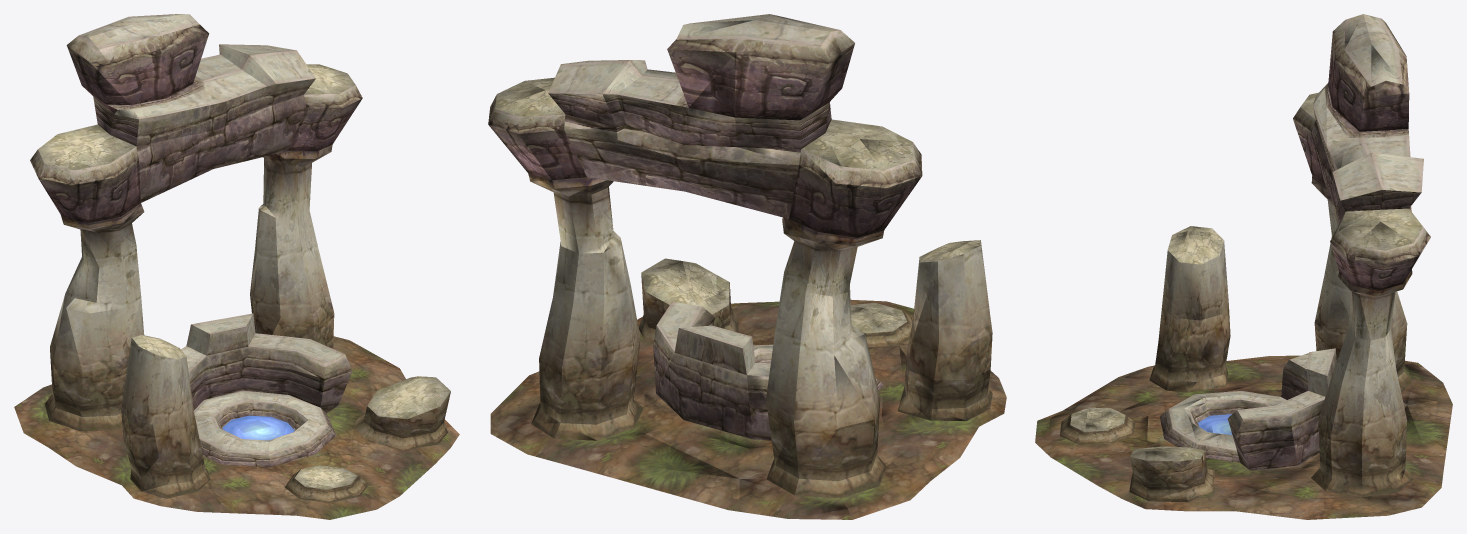
File: SpiritVent.obj
3 renders of one model, left to right at view 1: azimuth 30°, elevation 25°; view 2: azimuth 150°, elevation 25°; view 3: azimuth 270°, elevation 25°, orthographic. The views are drawn at different scales.
Visible parts, largest first — view 1: mesh_99, mesh_100, mesh_103, mesh_102, mesh_101, mesh_98, mesh_104; view 2: mesh_99, mesh_103, mesh_100, mesh_102, mesh_98, mesh_101; view 3: mesh_99, mesh_103, mesh_101, mesh_100, mesh_102, mesh_98, mesh_104.
Boxes of the visible parts, x1,y1,x2,y2 form: mesh_99: (44, 144, 450, 502); mesh_100: (93, 46, 352, 467); mesh_103: (14, 336, 459, 519); mesh_102: (30, 24, 362, 222); mesh_101: (79, 14, 344, 453); mesh_98: (38, 64, 450, 489); mesh_104: (222, 415, 294, 440); mesh_99: (528, 173, 992, 498); mesh_103: (490, 299, 1006, 519); mesh_100: (548, 93, 883, 440); mesh_102: (488, 30, 922, 237); mesh_98: (495, 77, 980, 333); mesh_101: (548, 14, 839, 376); mesh_99: (1060, 176, 1414, 502); mesh_103: (1035, 355, 1452, 519); mesh_101: (1169, 14, 1423, 449); mesh_100: (1160, 83, 1421, 470); mesh_102: (1293, 19, 1430, 290); mesh_98: (1070, 92, 1422, 461); mesh_104: (1198, 414, 1232, 435).
Size of the model in its own units: 4.91 by 5.1 by 5.21.
Materials: 7 (7 with a texture image).
